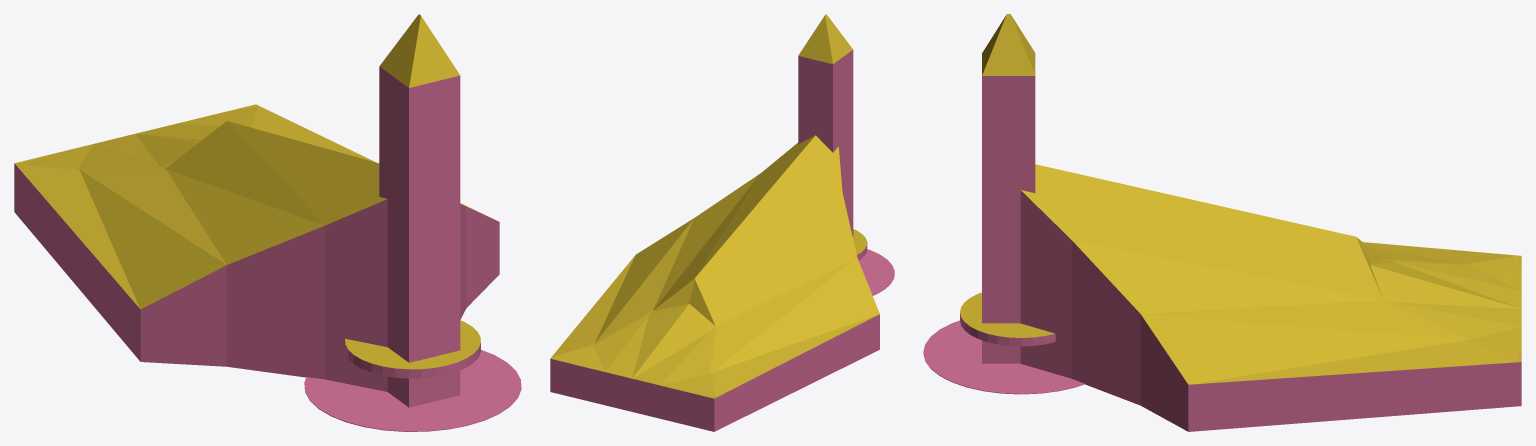
The model's file is kosciol.dae.
3 renders of one model, left to right at view 1: azimuth 30°, elevation 25°; view 2: azimuth 150°, elevation 25°; view 3: azimuth 270°, elevation 25°, orthographic. The views are drawn at different scales.
Visible parts, largest first — view 1: Plane, Cube, Cylinder_001, Cylinder; view 2: Plane, Cube, Cylinder_001; view 3: Plane, Cube, Cylinder_001, Cylinder.
Boxes of the visible parts, x1,y1,x2,y2 form: Plane: (14,104,499,391); Cube: (379,14,460,407); Cylinder_001: (304,350,521,431); Cylinder: (345,320,480,378); Plane: (550,135,879,431); Cube: (798,14,853,236); Cylinder_001: (858,249,894,295); Plane: (1020,164,1521,431); Cube: (982,14,1035,363); Cylinder_001: (923,320,1084,394); Cylinder: (960,292,1055,346).
Size of the model in its own units: 34.95 by 55.99 by 35.
